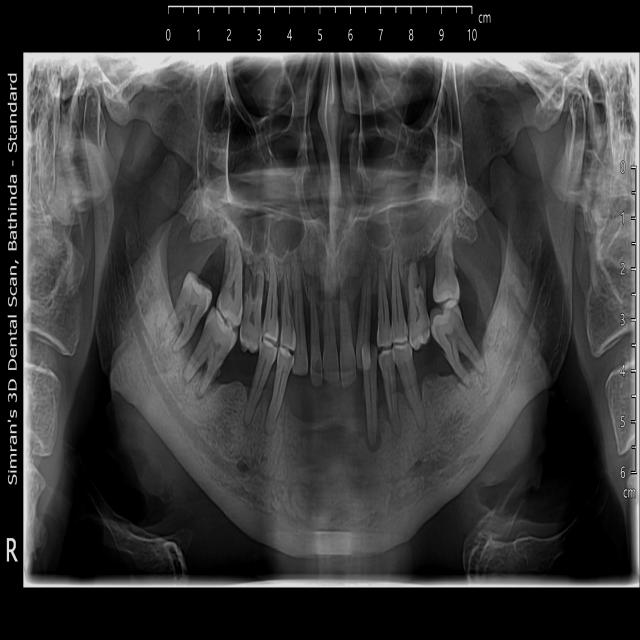Mandibular Canal: (414, 236, 551, 479), (115, 231, 246, 476)
Missing teeth: (283, 376, 365, 422)
Periapical lesion: (241, 256, 262, 297), (363, 423, 386, 460)
maxillary sinus: (197, 66, 310, 263), (359, 62, 465, 258)
